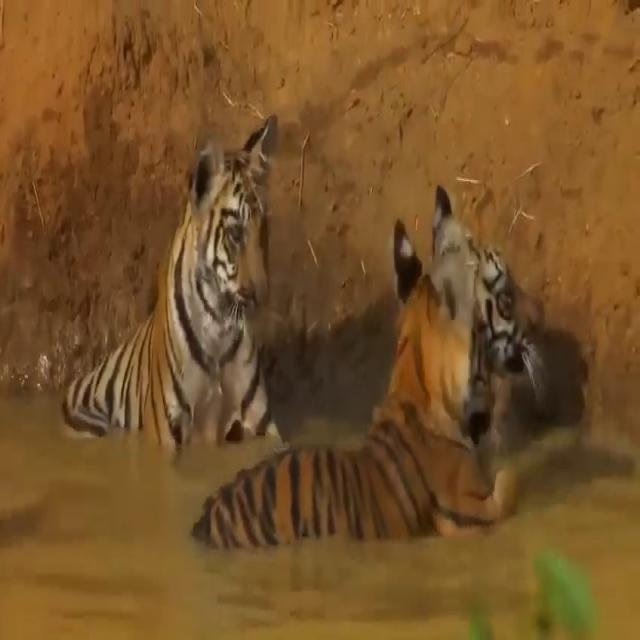tiger: (185, 214, 524, 548), (59, 116, 286, 455)
